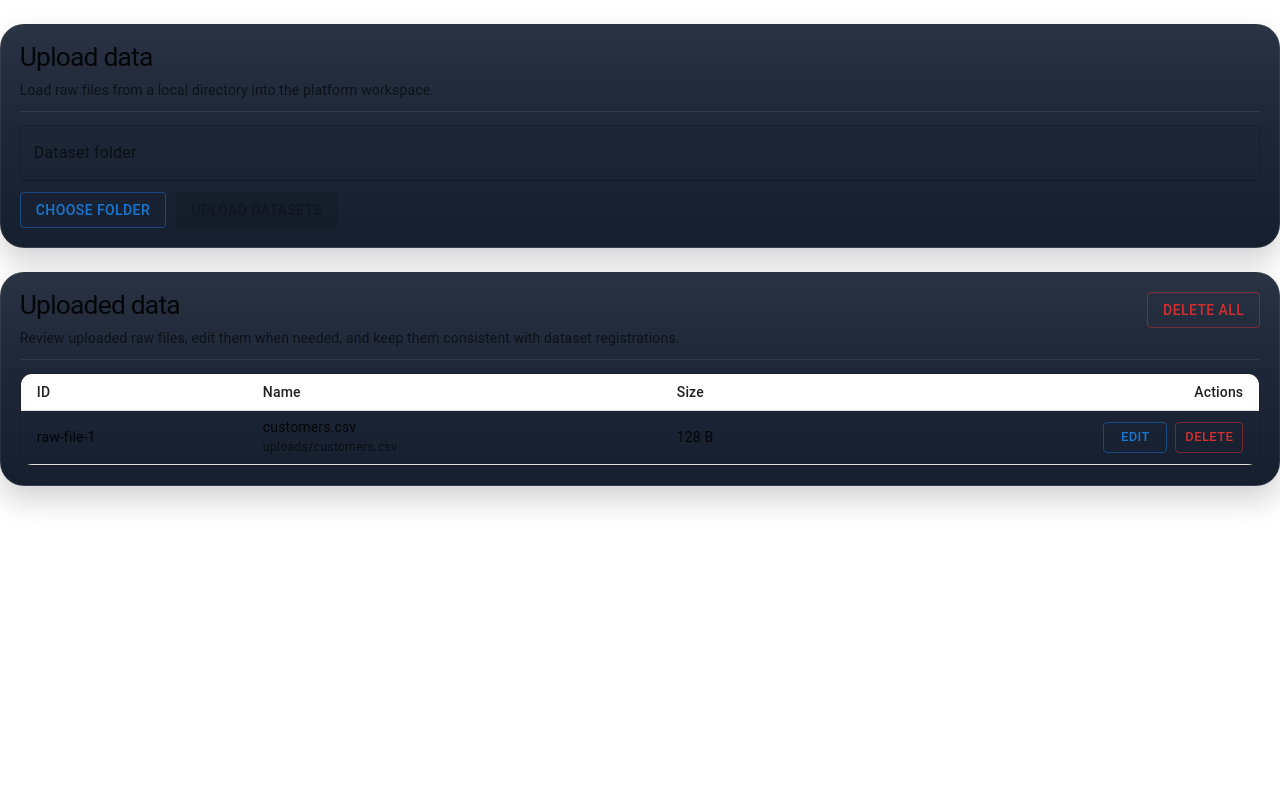
Scenario: DatasetsPage › saves edited CSV data through the editor session API
Click the button "Edit" at [1135, 437], box [1103,422,1167,453]
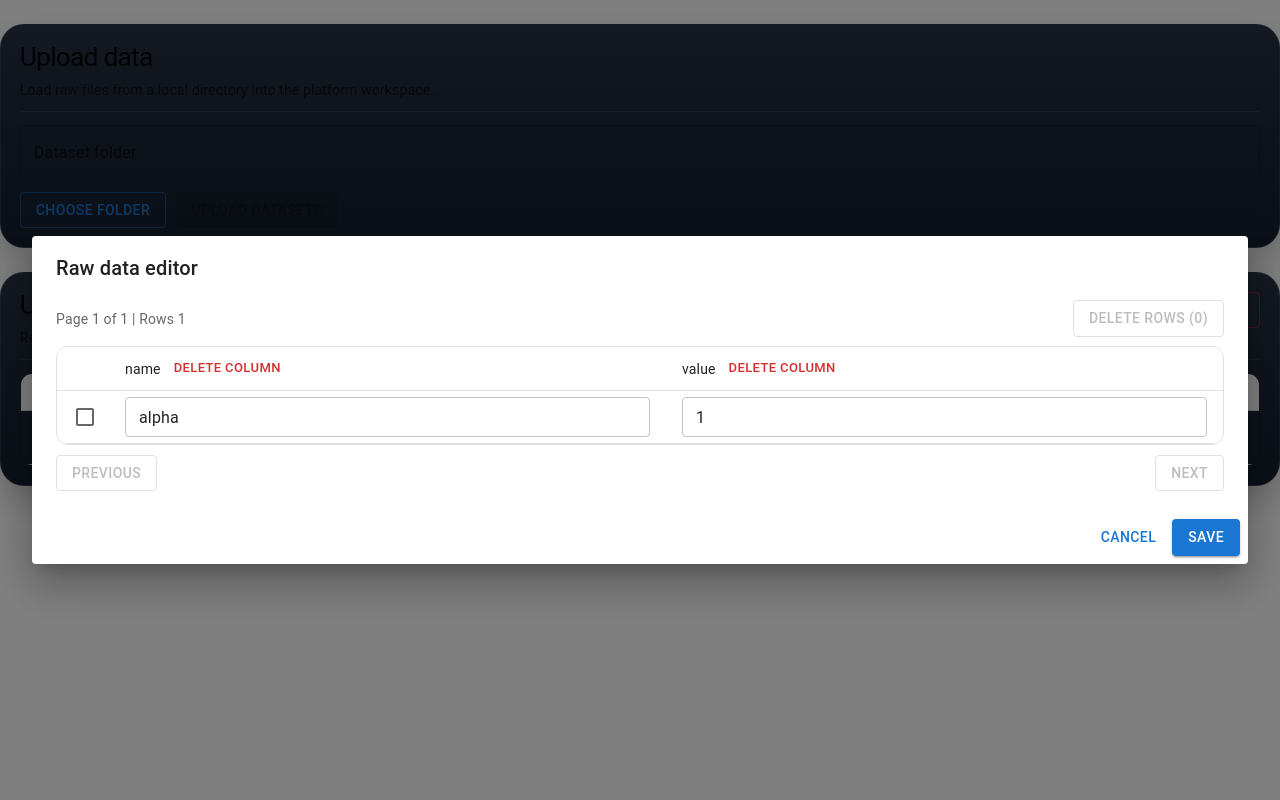
Replace the text in the 1st field showing "alpha" with "bravo" at [388, 417], box [125,397,650,437]
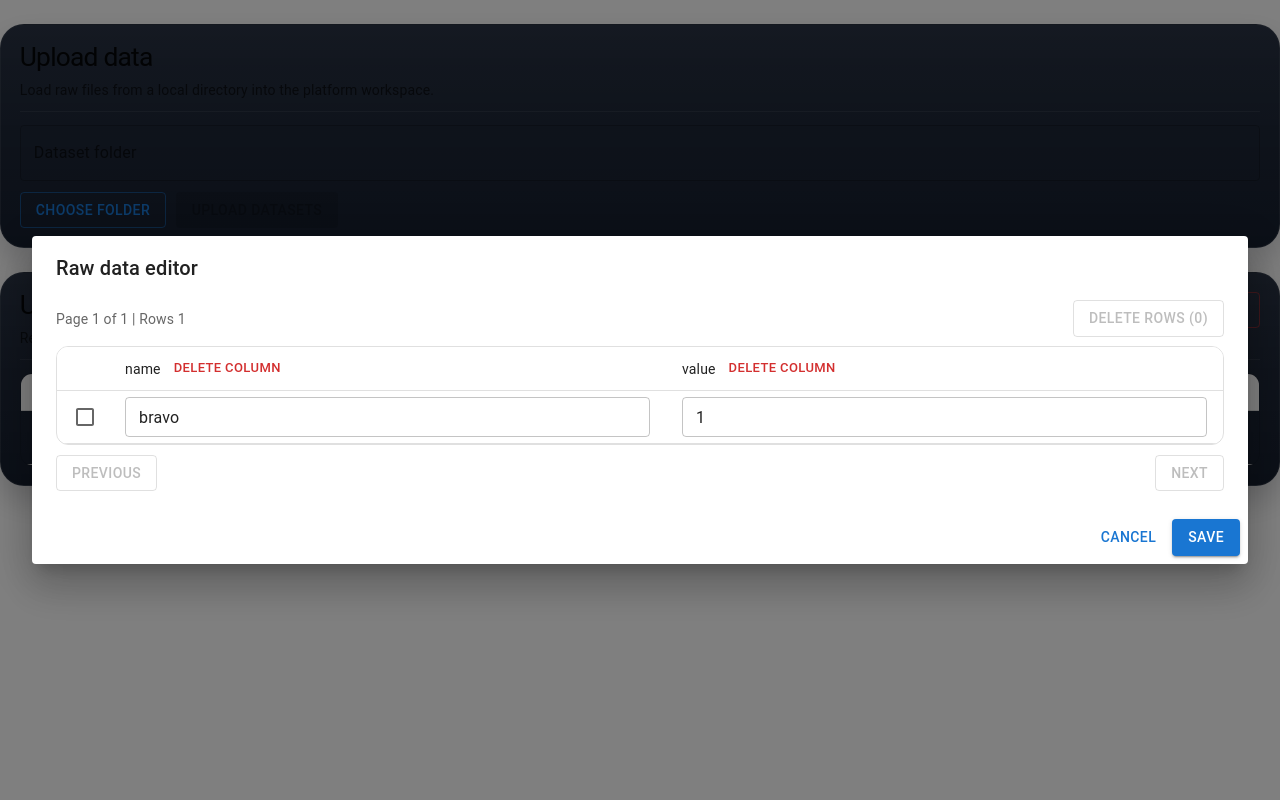
Click the button "Save" at [1206, 537], box [1172,519,1240,556]
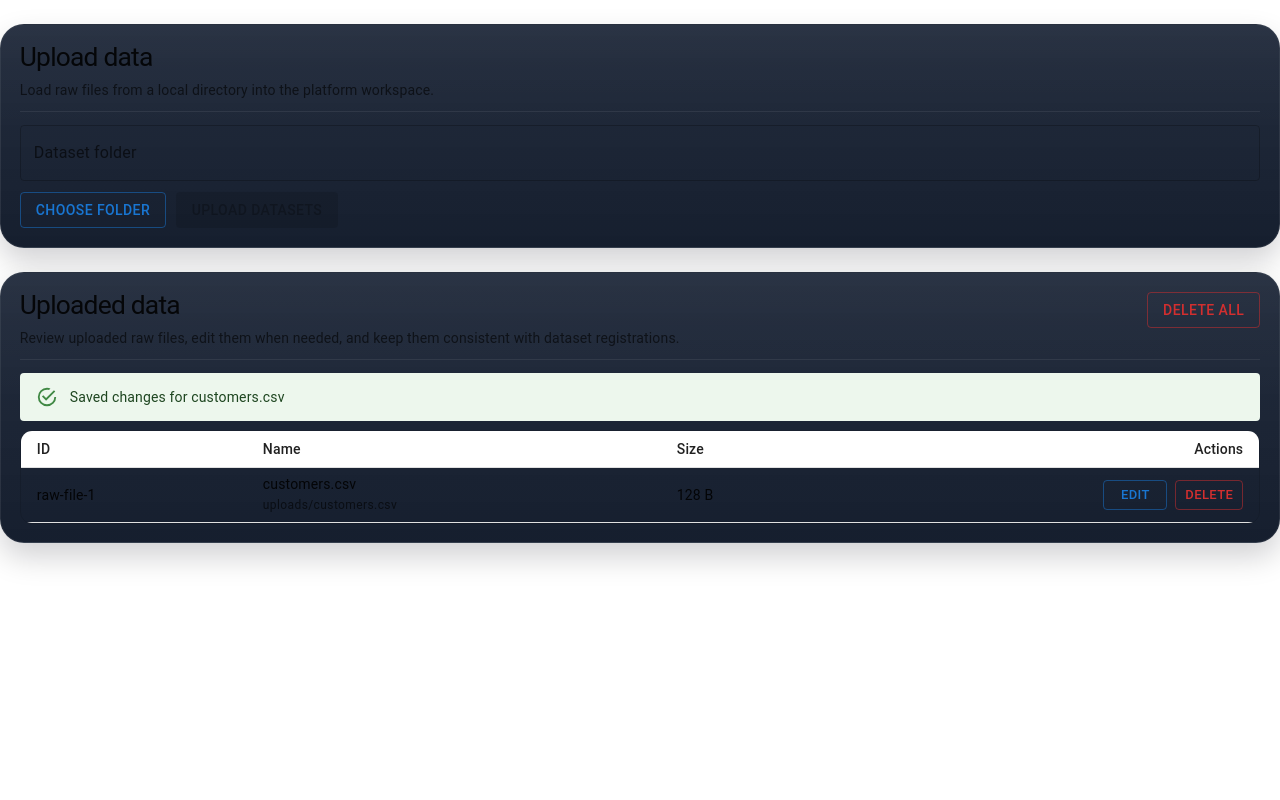
Result: the text "Saved changes for customers.csv" is shown at [70,388,285,404]
